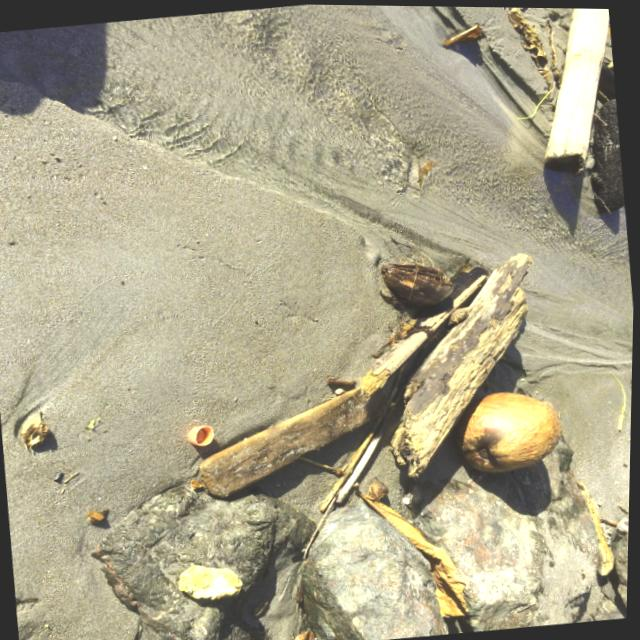Plastic: (180, 415, 225, 451)
